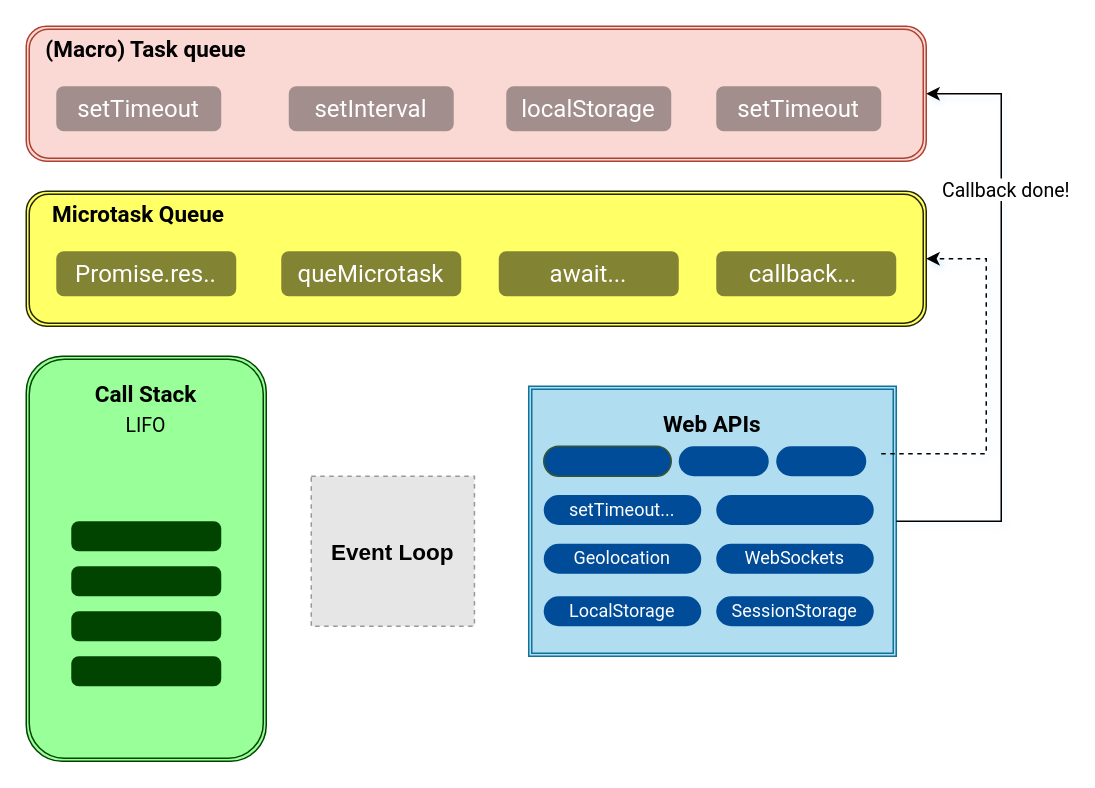
The diagram is 1095 pixels wide and 788 high, and some of its shapes have lost their labels. Grey dashed boxes stand in for pictures. The shapes that lost their labels are listed below. From the top down, each one's centre as x and y in pixels, then its label:
At pixel 606 460: "Dom events".
At pixel 723 461: "URL".
At pixel 821 461: "fetch()".
At pixel 794 509: "setInterval...".
